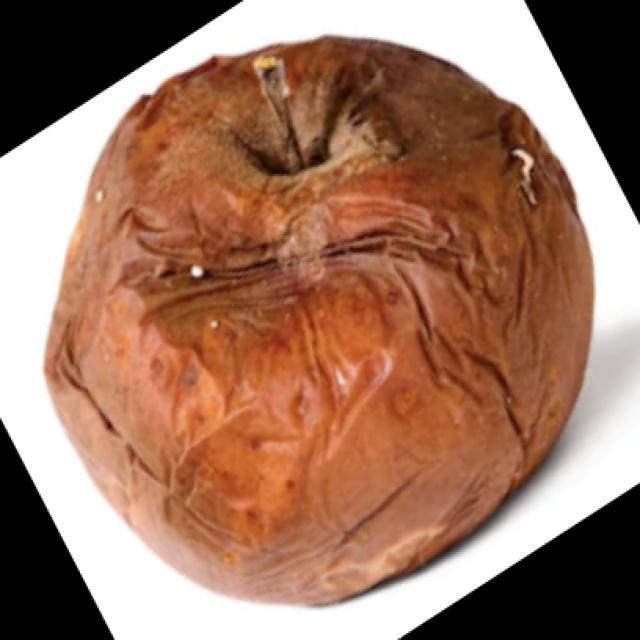Rotten: (59, 38, 588, 585)
